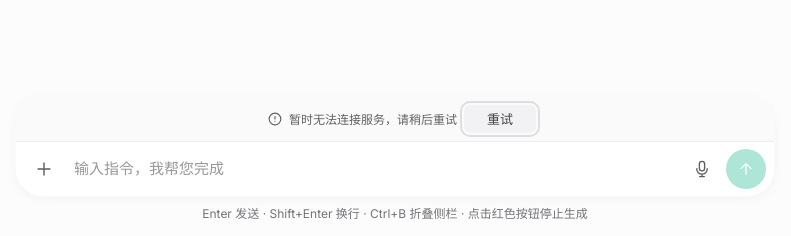
EmptyTaskComposer › shows an actionable roster failure without confusing authentication and other errors
Expected: the text "暂时无法连接服务，请稍后重试" is shown, [289, 110, 457, 128]
Click the button "重试" at [500, 119], box [464, 105, 536, 133]
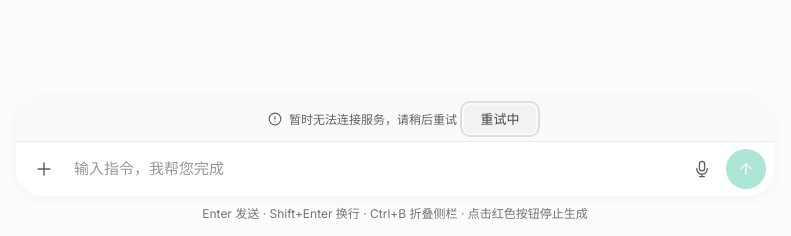
Expected: the button "重试中" is shown
Click the button "重试中" at [500, 119], box [464, 105, 536, 133]
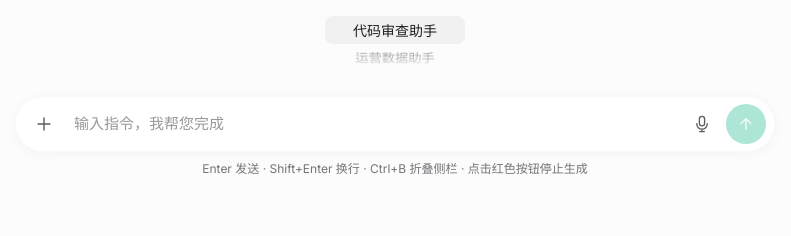
Expected: the message "暂时无法连接服务，请稍后重试 重试中" is gone
